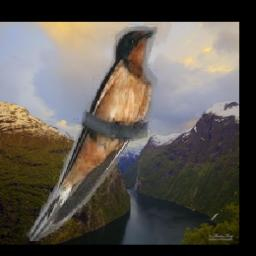Swallow: (24, 24, 159, 241)
